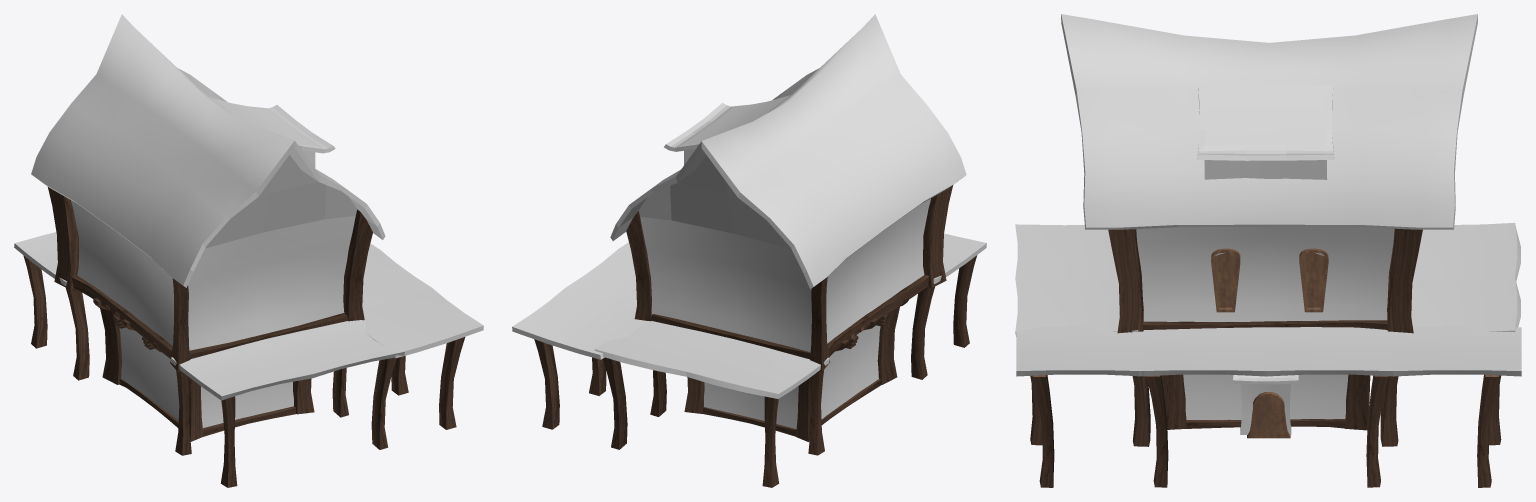
File: Elite1.fbx
The picture shows the model from 3 angles, left to right: view 1: azimuth 30°, elevation 25°; view 2: azimuth 150°, elevation 25°; view 3: azimuth 270°, elevation 25°; orthographic projection. The views are drawn at different scales.
Parts seen in each view (by area): view 1: Box1497, Object1824, Object1830, Object1738, Object1734, Object1737, Object1730, Box1473, Object1719, Object1725, Object1739, Object1722 (+14 smaller); view 2: Box1497, Object1824, Object1830, Object1742, Object1740, Object1741, Object1733, Box1473, Object1721, Object1724, Object1725, Object1722 (+14 smaller); view 3: Box1497, Object1824, Box1473, Object1733, Object1742, Object1730, Object1738, Object1741, Object1740, Object1737, Object1734, Object1830 (+20 smaller).
Part boxes in pixels (left/top/right/bottom): Box1497: left=31, top=14, right=385, bottom=287; Object1824: left=71, top=155, right=357, bottom=350; Object1830: left=119, top=327, right=293, bottom=427; Object1738: left=363, top=287, right=483, bottom=358; Object1734: left=170, top=339, right=313, bottom=400; Object1737: left=267, top=320, right=404, bottom=378; Object1730: left=362, top=250, right=431, bottom=310; Box1473: left=209, top=97, right=335, bottom=153; Object1719: left=343, top=209, right=372, bottom=321; Object1725: left=48, top=187, right=78, bottom=289; Object1739: left=439, top=337, right=465, bottom=429; Object1722: left=71, top=275, right=172, bottom=358; Box1497: left=610, top=14, right=966, bottom=289; Object1824: left=637, top=155, right=930, bottom=352; Object1830: left=704, top=325, right=880, bottom=428; Object1742: left=512, top=287, right=644, bottom=359; Object1740: left=686, top=339, right=829, bottom=398; Object1741: left=594, top=320, right=732, bottom=376; Object1733: left=566, top=249, right=636, bottom=310; Box1473: left=664, top=95, right=789, bottom=151; Object1721: left=923, top=185, right=953, bottom=288; Object1724: left=626, top=211, right=651, bottom=321; Object1725: left=810, top=277, right=829, bottom=371; Object1722: left=827, top=275, right=929, bottom=356; Box1497: left=1061, top=14, right=1477, bottom=229; Object1824: left=1136, top=227, right=1394, bottom=321; Box1473: left=1197, top=82, right=1334, bottom=160; Object1733: left=1265, top=327, right=1393, bottom=376; Object1742: left=1393, top=326, right=1521, bottom=376; Object1730: left=1139, top=327, right=1267, bottom=376; Object1738: left=1016, top=326, right=1144, bottom=376; Object1741: left=1392, top=276, right=1520, bottom=332; Object1740: left=1413, top=222, right=1520, bottom=281; Object1737: left=1015, top=277, right=1138, bottom=336; Object1734: left=1015, top=224, right=1117, bottom=278; Object1830: left=1183, top=374, right=1348, bottom=419.
Size of the model in its own units: 719 by 809 by 963.
